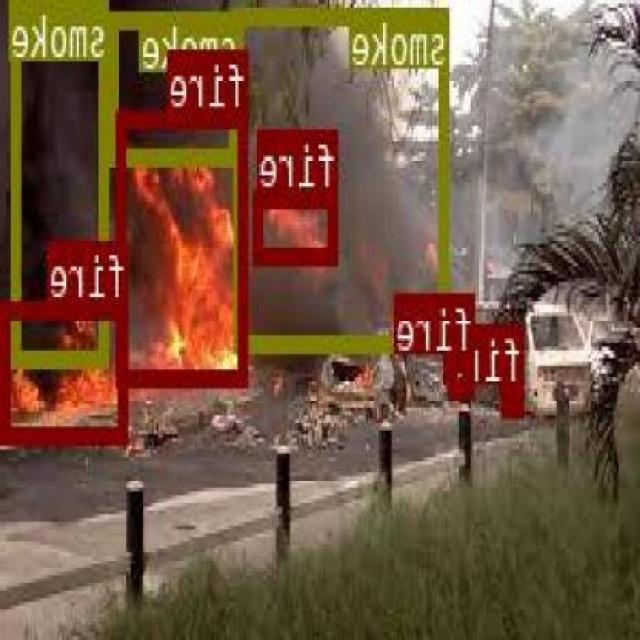Fire: (117, 106, 250, 382), (4, 300, 130, 438), (254, 190, 340, 262), (451, 352, 477, 394), (503, 384, 525, 414)
Smoke: (236, 5, 452, 350), (14, 0, 111, 362), (111, 8, 242, 160)
